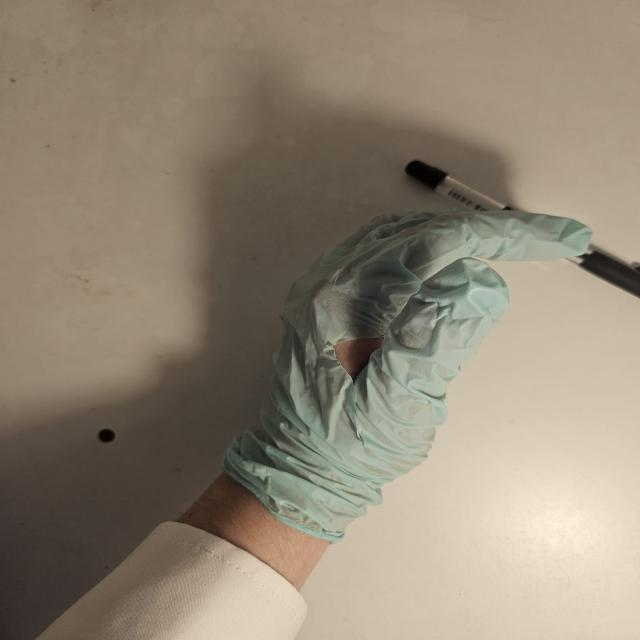gloves_damaged: (220, 204, 594, 543)
